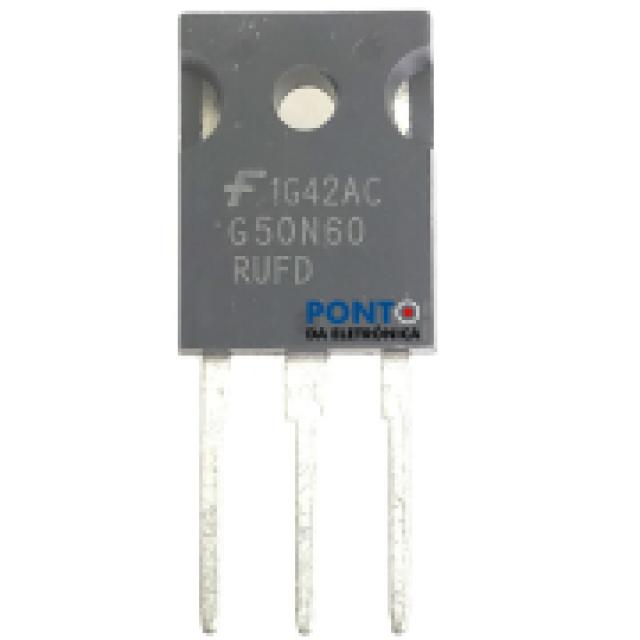Transistor: (184, 20, 431, 636)
